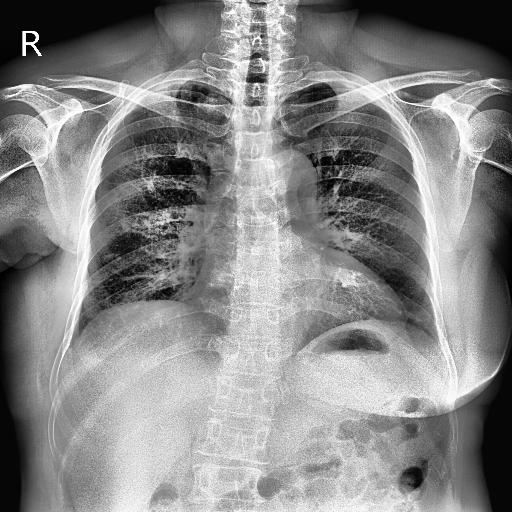0- Aortic enlargement: (262, 150, 318, 216), (260, 147, 318, 205), (268, 148, 316, 186)
11- Pleural thickening: (142, 76, 204, 96)
13- Pulmonary fibrosis: (120, 270, 166, 282)
3- Cardiomegaly: (186, 268, 410, 332), (186, 266, 406, 330), (184, 280, 406, 327)
